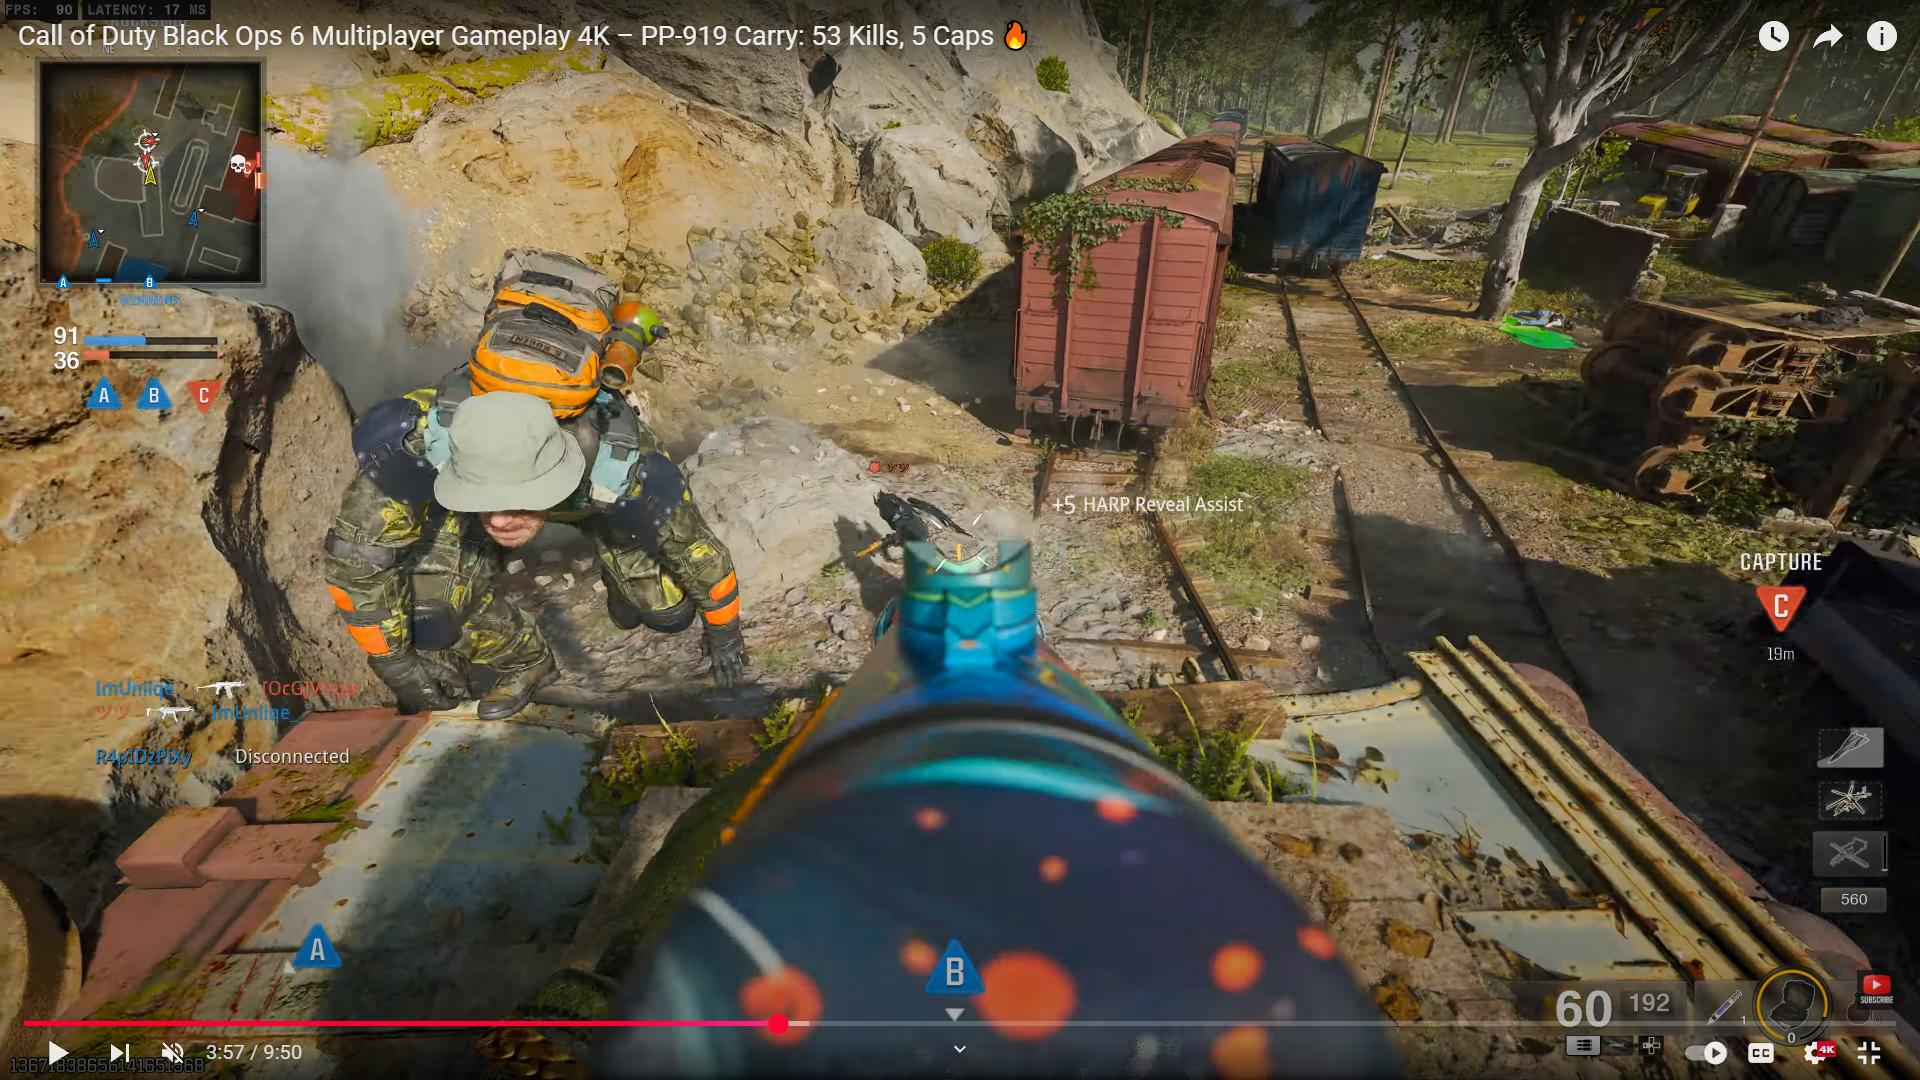Enemy: (282, 268, 728, 719), (861, 491, 938, 549)
